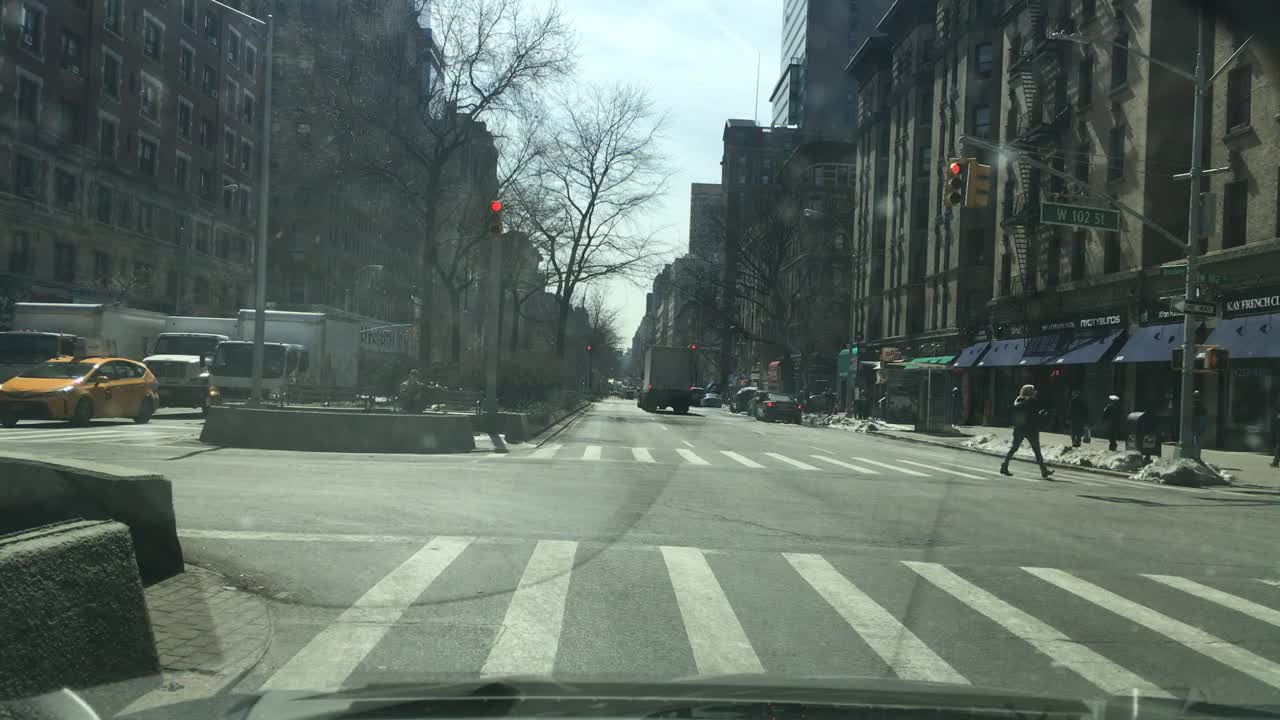car: (2, 354, 158, 428), (755, 389, 802, 423), (726, 382, 761, 413), (801, 390, 834, 413), (741, 391, 771, 416), (699, 391, 732, 410), (691, 386, 703, 407)
person: (998, 380, 1056, 479), (394, 366, 429, 413), (1065, 388, 1091, 445), (1102, 391, 1124, 451), (851, 389, 865, 419), (861, 389, 874, 419)
traffic light: (971, 158, 992, 212), (945, 156, 966, 208), (487, 195, 506, 242), (1201, 347, 1229, 370), (1168, 344, 1192, 367), (580, 340, 596, 354)
traffic sign: (1037, 197, 1128, 234), (1165, 293, 1217, 318)
truck: (206, 307, 420, 421), (0, 300, 168, 375), (137, 314, 240, 412), (633, 341, 696, 412)
